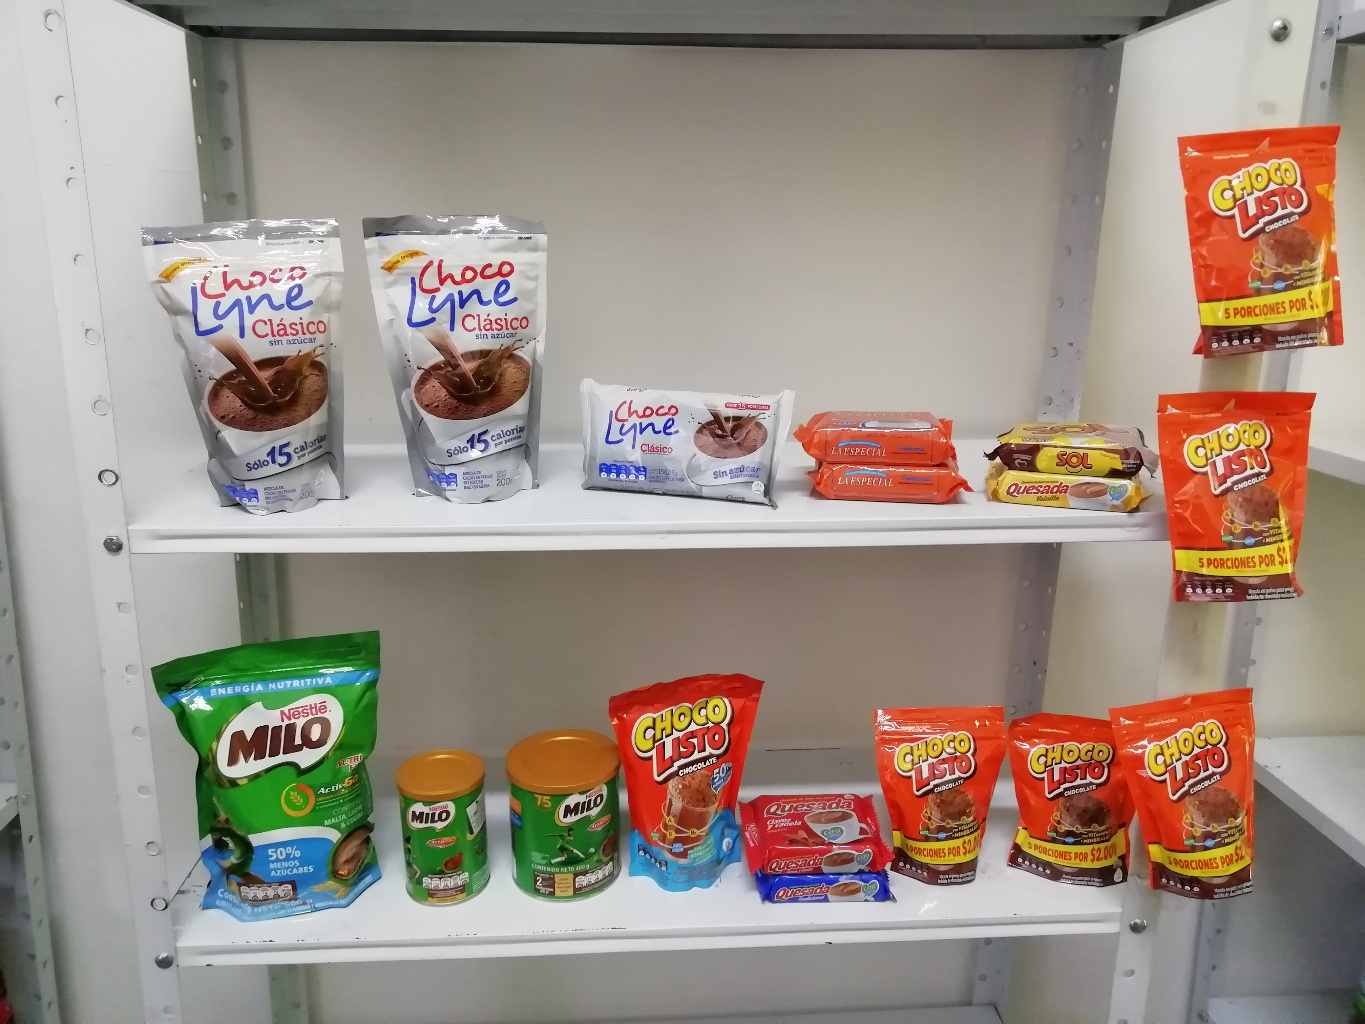COL0170104DYP20000: (608, 666, 767, 892)
COL0170203LAT20000: (389, 746, 512, 926)
COL0170203LAT40000: (501, 724, 632, 904)
COL0170205DYP50000: (148, 626, 395, 924)
